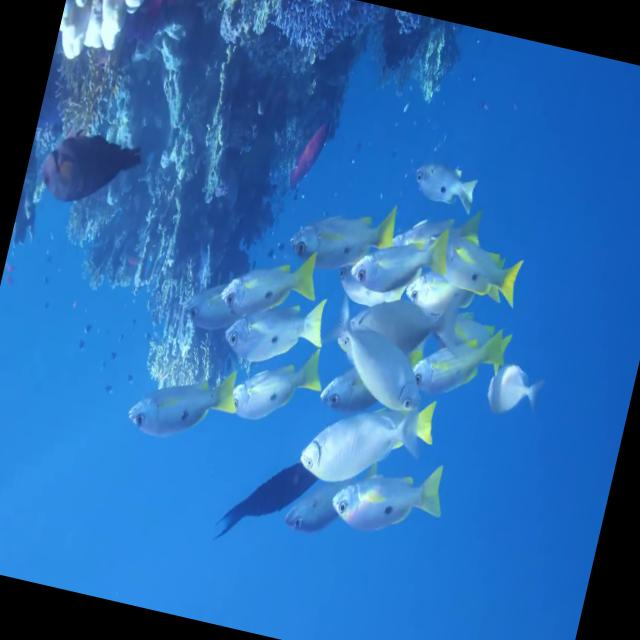fish: (296, 378, 441, 503), (306, 298, 438, 416), (323, 446, 451, 548), (126, 348, 240, 451), (283, 183, 400, 282), (219, 280, 330, 376), (227, 330, 328, 432), (218, 235, 321, 333), (344, 212, 451, 304), (35, 124, 143, 214), (411, 311, 505, 406), (220, 452, 312, 548), (428, 228, 528, 310), (406, 156, 480, 217), (481, 361, 544, 424)
